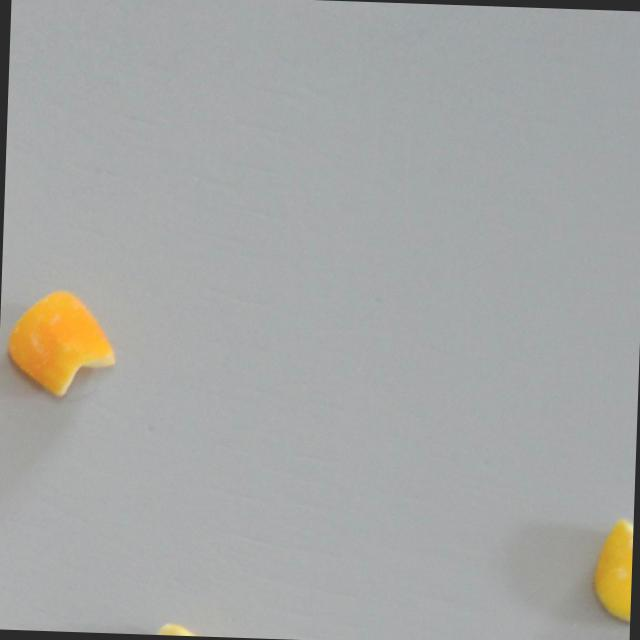no_canjicado: (5, 287, 118, 399)
